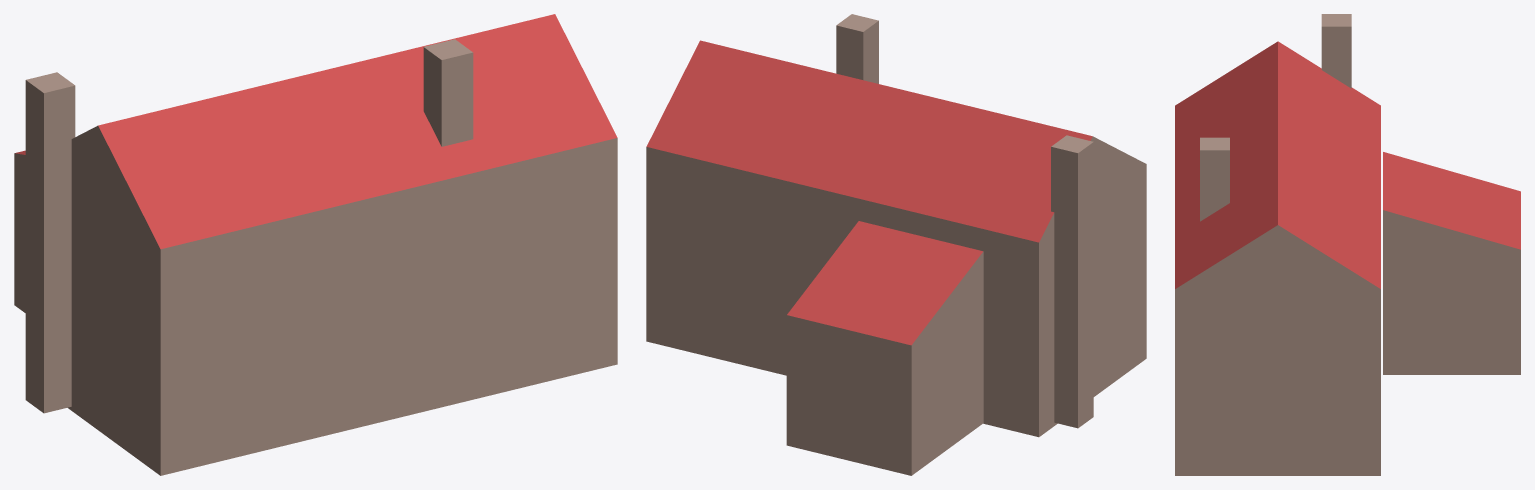
The model's file is house2.fbx.
3 renders of one model, left to right at view 1: azimuth 30°, elevation 25°; view 2: azimuth 150°, elevation 25°; view 3: azimuth 270°, elevation 25°, orthographic. The views are drawn at different scales.
Visible parts, largest first — view 1: House2; view 2: House2; view 3: House2.
Boxes of the visible parts, <box> form: House2: <box>14,14,617,475</box>; House2: <box>646,14,1146,475</box>; House2: <box>1175,14,1520,475</box>.
Bounding box in the file's own units: 52.5 × 39.39 × 34.4.
